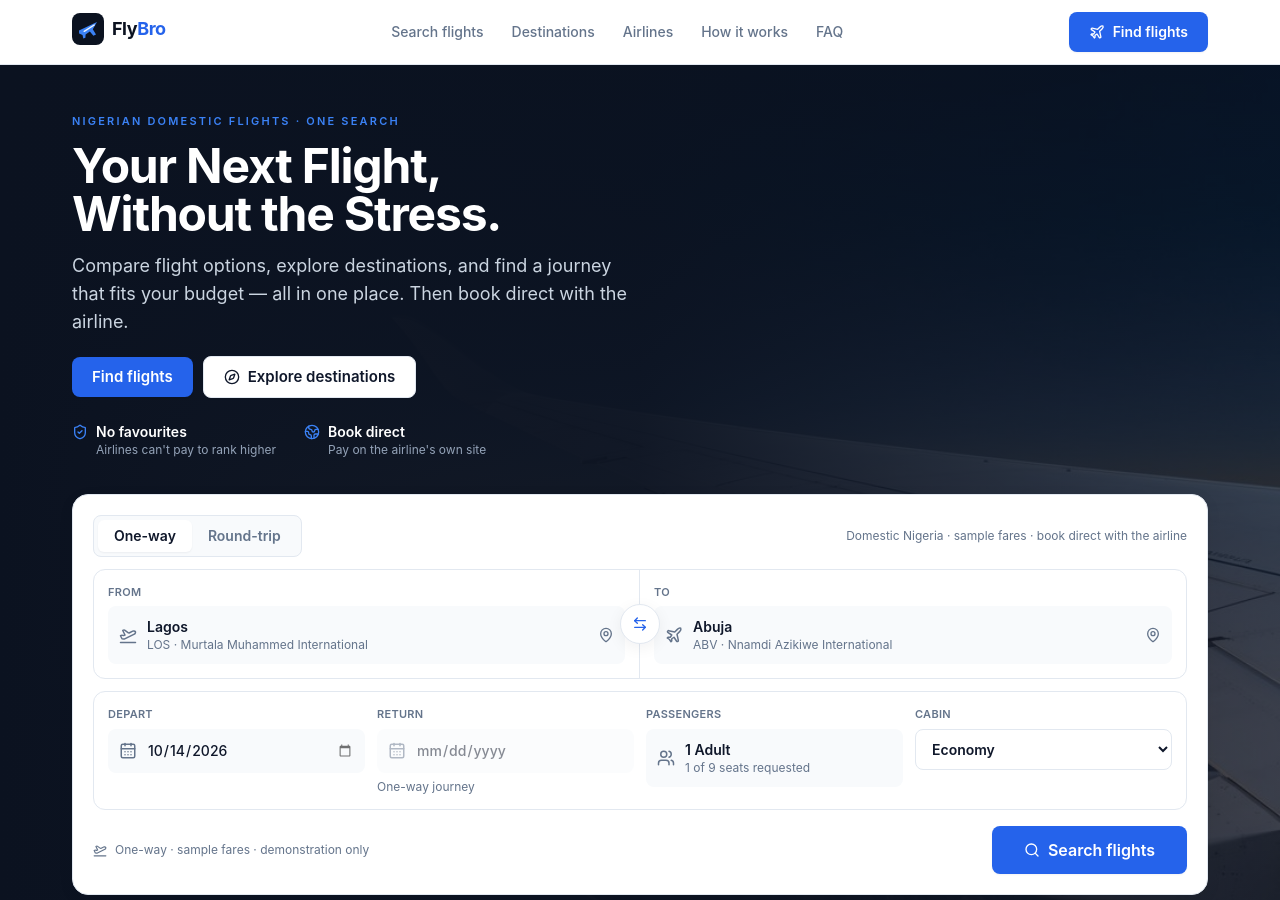
Test: FlyBro demo — product flows › marks the cheapest flight clearly and keeps sample-data labels
Step 1. Click the button "Search flights" below "Cabin" → (1089, 850), box [992,826,1187,874]
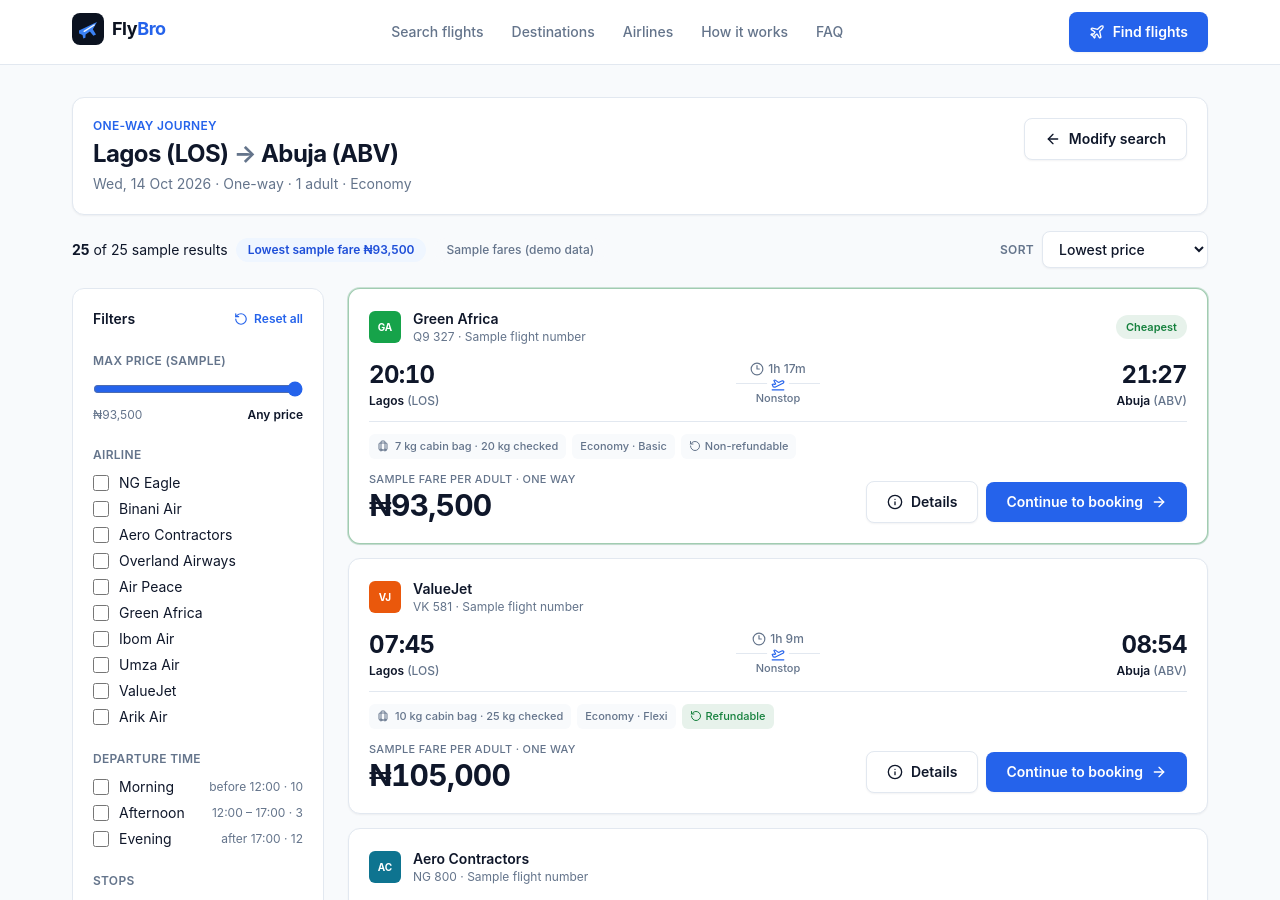
Now the text "25 of 25 sample results" is shown, box [72,240,228,260]
Now the text "Cheapest" is shown, box [1116,315,1187,339]
Now the text "Sample fare per adult · one way" below "1h 17m" is shown, box [369,472,576,486]
